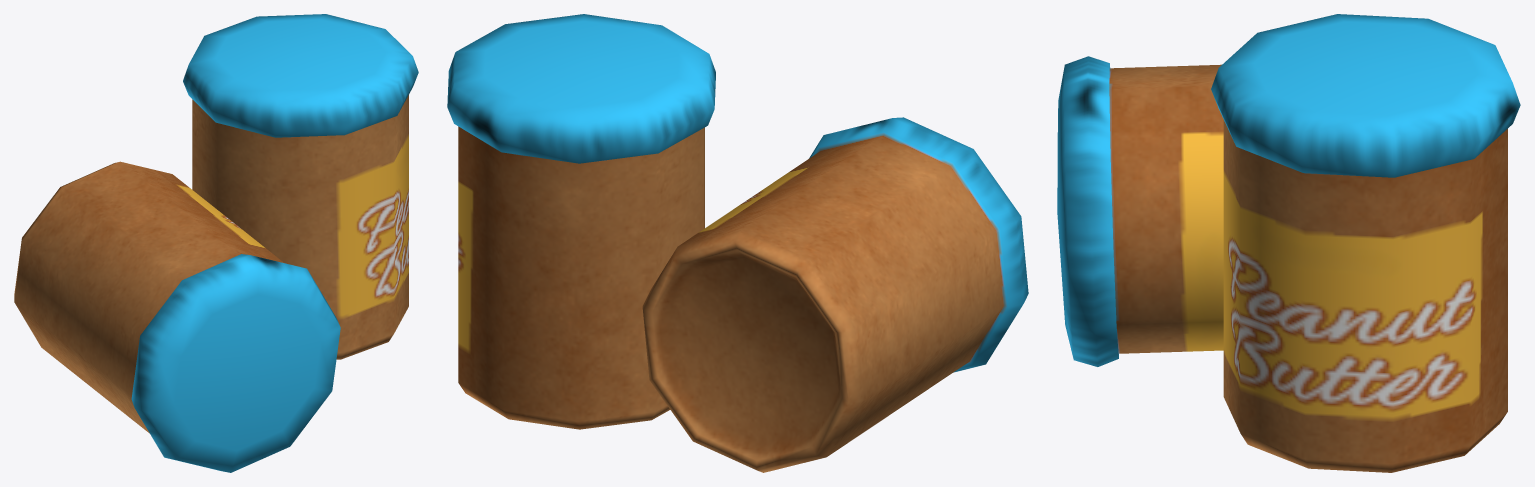
File: peanut butter.fbx
The picture shows the model from 3 angles, left to right: view 1: azimuth 30°, elevation 25°; view 2: azimuth 150°, elevation 25°; view 3: azimuth 270°, elevation 25°; orthographic projection. The views are drawn at different scales.
Visible parts, largest first — view 1: peanut_jar1, peanut_jar; view 2: peanut_jar1, peanut_jar; view 3: peanut_jar, peanut_jar1.
Part boxes in pixels (<box>): peanut_jar1: <box>14,161,340,472</box>; peanut_jar: <box>183,14,418,359</box>; peanut_jar1: <box>642,117,1028,472</box>; peanut_jar: <box>447,14,715,429</box>; peanut_jar: <box>1211,14,1520,472</box>; peanut_jar1: <box>1057,56,1223,366</box>.
Bounding box in the file's own units: 6.87 × 5.33 × 5.66.
1 material, 1 textured.
